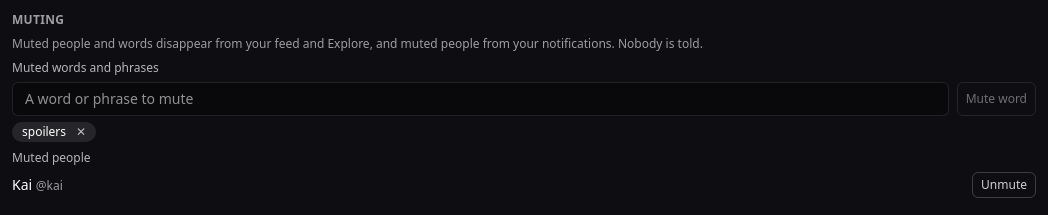
Scenario: MuteSettings › unmutes a person
The width and height of the screenshot is (1048, 215).
What coordinates should you click on to do the following:
click the button with aria-label "Unmute Kai"
I would click on:
 (1004, 185)
Its box is [972, 172, 1036, 198].
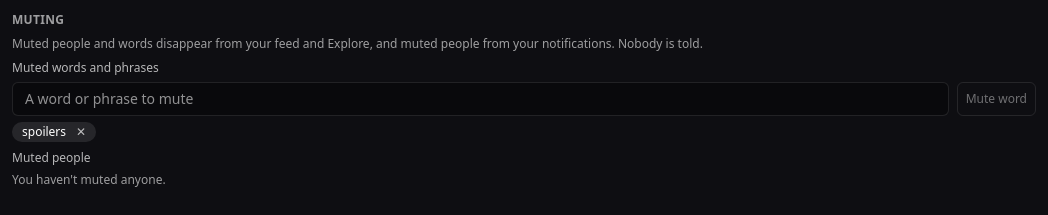
Check: the link "kai" is gone
